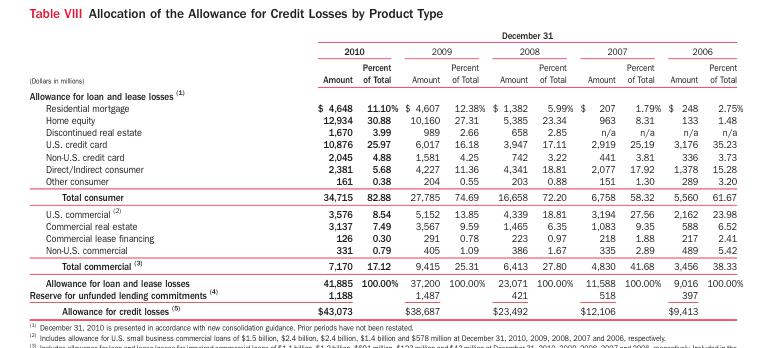table: (28, 28, 742, 316)
table column: (28, 28, 266, 316), (266, 28, 356, 316), (443, 28, 488, 316), (356, 28, 400, 316), (531, 28, 575, 316), (575, 28, 619, 316), (619, 28, 663, 316), (400, 28, 443, 316), (488, 28, 531, 316), (701, 28, 742, 316), (663, 28, 701, 316)
table column header: (28, 28, 742, 86)
table projected row header: (28, 86, 742, 101)
table row: (28, 58, 742, 86), (28, 257, 742, 274), (28, 42, 742, 58), (28, 188, 742, 204), (28, 86, 742, 101), (28, 204, 742, 219), (28, 301, 742, 316), (28, 28, 742, 42), (28, 174, 742, 188), (28, 243, 742, 257), (28, 287, 742, 301), (28, 137, 742, 150), (28, 274, 742, 287), (28, 101, 742, 113), (28, 113, 742, 125), (28, 125, 742, 137), (28, 150, 742, 162), (28, 162, 742, 174), (28, 219, 742, 231), (28, 231, 742, 243)
table spanning cell: (28, 28, 266, 86), (266, 28, 742, 42), (266, 42, 400, 58), (400, 42, 488, 58), (575, 42, 663, 58), (488, 42, 575, 58), (663, 42, 742, 58)
